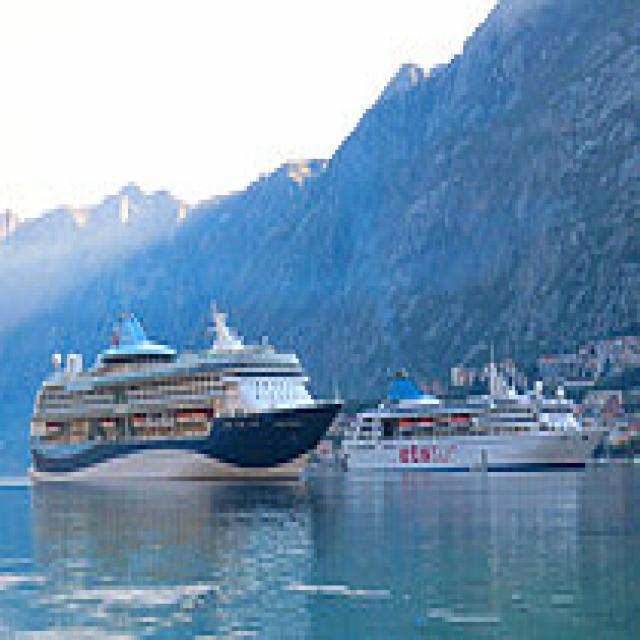Ship: (13, 283, 352, 492), (330, 360, 614, 496)
